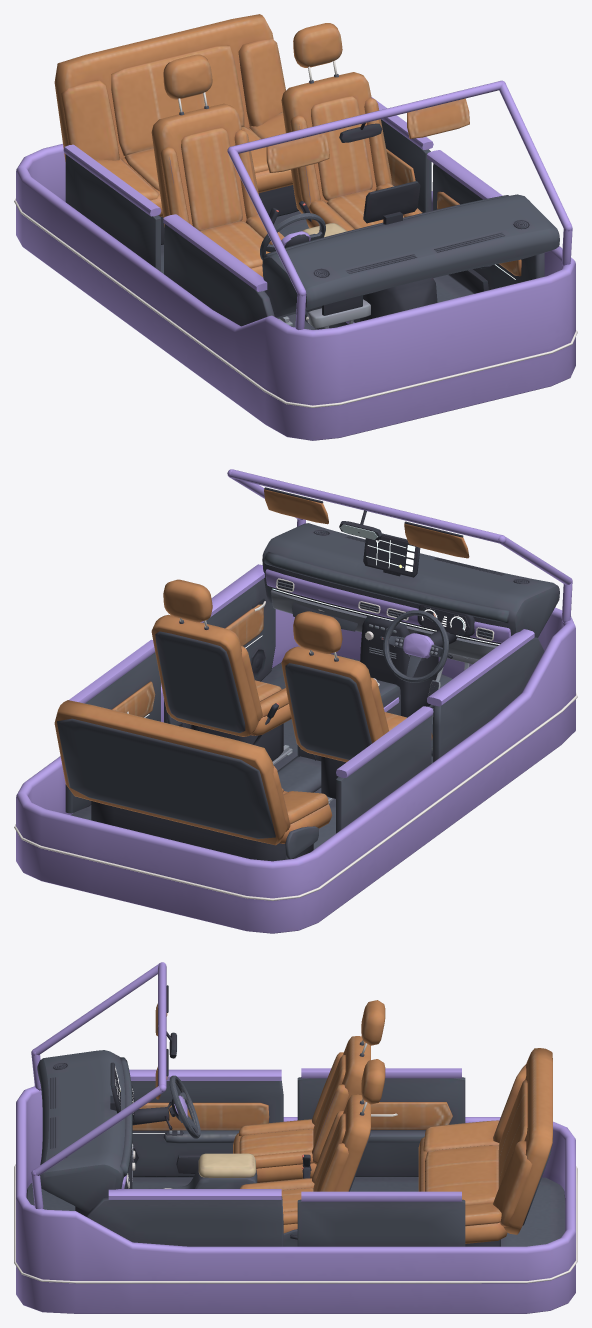
Rendered from cabin.glb.
The picture shows the model from 3 angles, top to bottom: view 1: azimuth 30°, elevation 25°; view 2: azimuth 150°, elevation 25°; view 3: azimuth 270°, elevation 25°; orthographic projection. The views are drawn at different scales.
Visible parts, largest first — view 1: modern-car-interior_body, modern-car-interior_steering_wheel; view 2: modern-car-interior_body, modern-car-interior_steering_wheel; view 3: modern-car-interior_body, modern-car-interior_steering_wheel.
Part boxes in pixels (left/top/right/bottom): modern-car-interior_body: left=14, top=14, right=577, bottom=440; modern-car-interior_steering_wheel: left=260, top=213, right=325, bottom=260; modern-car-interior_body: left=14, top=469, right=577, bottom=933; modern-car-interior_steering_wheel: left=383, top=610, right=448, bottom=682; modern-car-interior_body: left=14, top=962, right=577, bottom=1313; modern-car-interior_steering_wheel: left=169, top=1075, right=200, bottom=1138.
Bounding box in the file's own units: 1.8 × 1.38 × 3.16.
14 materials, 2 textured.
